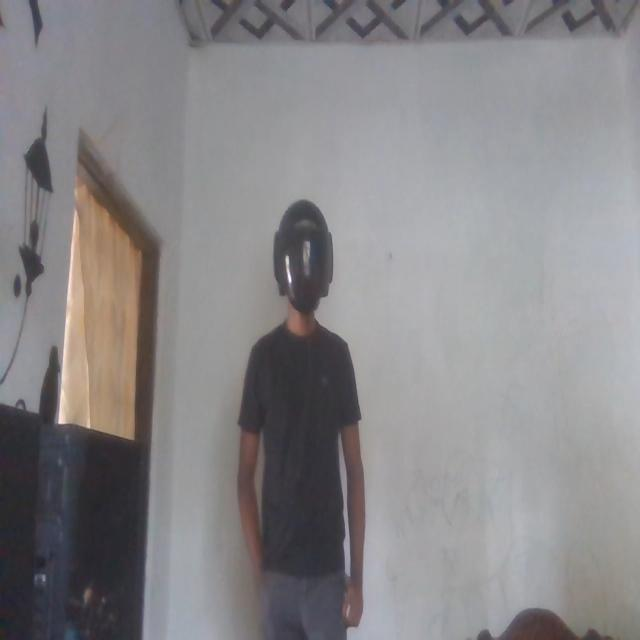Helmet_Wearer: (264, 189, 332, 330)
Person: (232, 190, 368, 628)
